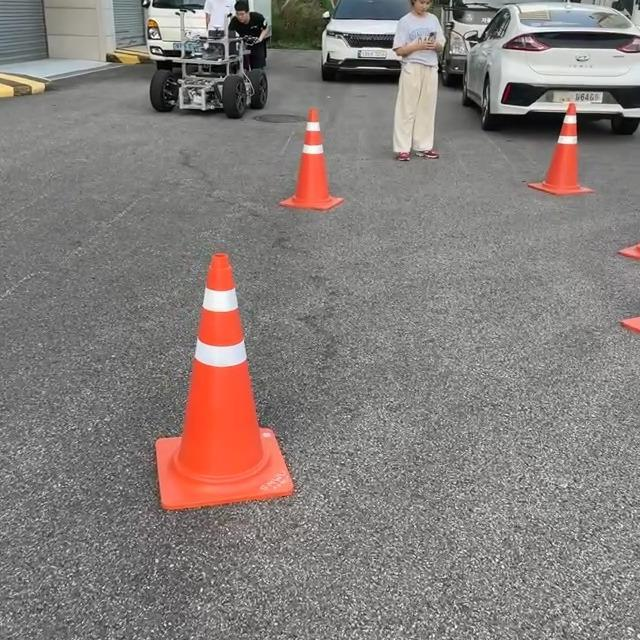fallen_object: (152, 243, 332, 536), (512, 90, 618, 213), (264, 118, 370, 215)
